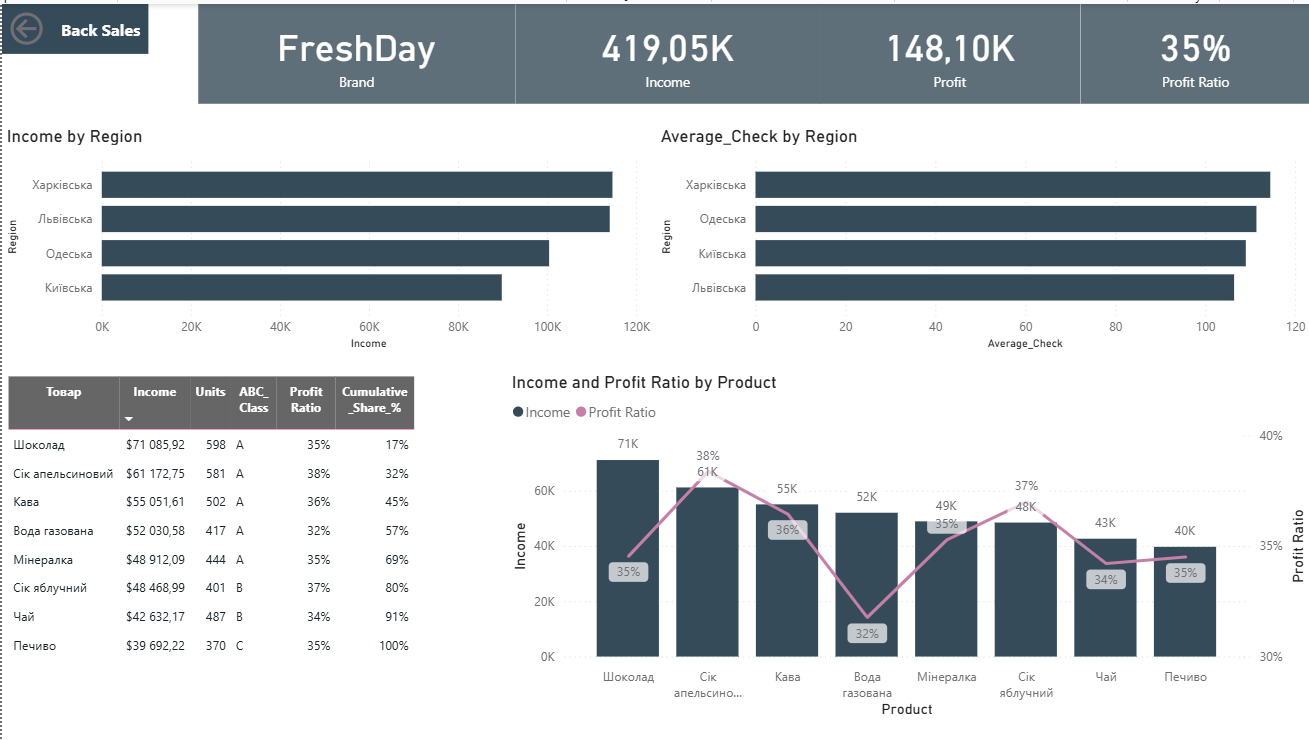

What the dashboard file says about the page in this screenshot:
{"tool":"powerbi","page":{"name":"Drill_th","canvas":[1280,720],"ordinal":2},"visuals":[{"type":"actionButton","title":"Back Sales","box":[0,0,143.1,48.9],"z":0},{"type":"group","id":"g1","title":"Group 1","box":[192.1,0,1088.2,97.4],"z":1000},{"type":"card","fields":{"Values":["Measure.Income"]},"box":[502.2,0,297.8,97.4],"z":1503,"group":"g1"},{"type":"card","fields":{"Values":["Min(Brand.Бренд)"]},"box":[192.1,0,310.1,97.4],"z":1753,"group":"g1"},{"type":"card","fields":{"Values":["Measure.Profit Ratio"]},"box":[1055.2,0,225,97.4],"z":1878,"group":"g1"},{"type":"card","fields":{"Values":["Measure.Profit"]},"box":[800,0,255.2,97.4],"z":1940,"group":"g1"},{"type":"tableEx","fields":{"Values":["Product.Товар","Measure.Income","Sum(Sales.Кількість)","ABC-аналіз.ABC_Class","Measure.Profit Ratio","ABC-аналіз.Cumulative Share %"]},"box":[0,359.5,484.2,343.6],"z":2000},{"type":"clusteredBarChart","fields":{"Category":["Sales.Регіон"],"Y":["Measure.Income"]},"box":[0,118.6,639.5,225],"z":3000},{"type":"barChart","fields":{"Y":["Measure.Average Check"],"Category":["Sales.Регіон"]},"box":[639.5,118.6,640.8,225],"z":4000},{"type":"lineStackedColumnComboChart","fields":{"Category":["Product.Товар"],"Y":["Measure.Income"],"Y2":["Measure.Profit Ratio"]},"box":[494,359.5,786.3,343.6],"z":5000}]}

Visuals, with their boxes in screenshot pixels (x1, y1, x2, y2), scaled from the page's 1280x720 canvas onto the 1309x740 screenshot:
"Back Sales" actionButton: {"left": 0, "top": 0, "right": 146, "bottom": 50}
"Group 1" group: {"left": 196, "top": 0, "right": 1308, "bottom": 100}
card - Measure.Income: {"left": 514, "top": 0, "right": 818, "bottom": 100}
card - Min(Brand.Бренд): {"left": 196, "top": 0, "right": 514, "bottom": 100}
card - Measure.Profit Ratio: {"left": 1079, "top": 0, "right": 1308, "bottom": 100}
card - Measure.Profit: {"left": 818, "top": 0, "right": 1079, "bottom": 100}
tableEx - Product.Товар x Measure.Income: {"left": 0, "top": 369, "right": 495, "bottom": 723}
clusteredBarChart - Sales.Регіон x Measure.Income: {"left": 0, "top": 122, "right": 654, "bottom": 353}
barChart - Measure.Average Check x Sales.Регіон: {"left": 654, "top": 122, "right": 1308, "bottom": 353}
lineStackedColumnComboChart - Product.Товар x Measure.Income: {"left": 505, "top": 369, "right": 1308, "bottom": 723}
